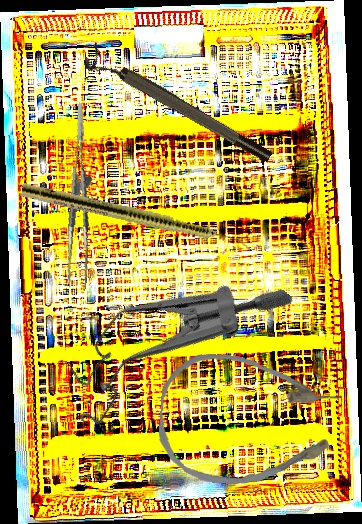Cannula: (155, 350, 345, 492)
Fixation Ring: (81, 41, 275, 174)
Handpiece: (19, 181, 254, 253)
Speculum: (48, 215, 295, 479)
Tissue Forceps: (49, 102, 115, 291)
